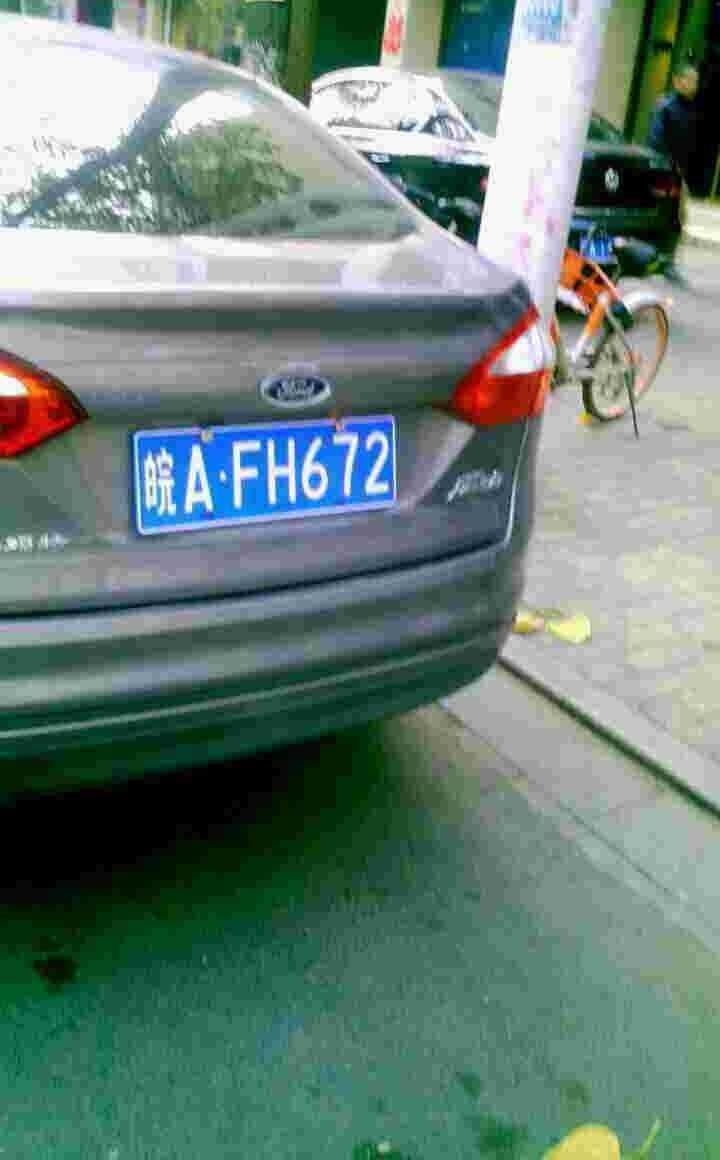license_plate: (132, 420, 402, 544)
